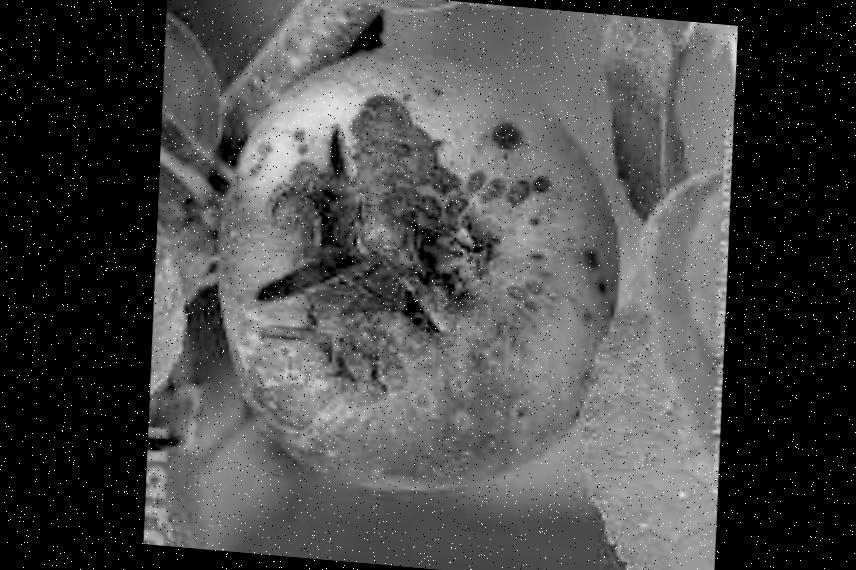SCAB: (153, 19, 632, 520)
